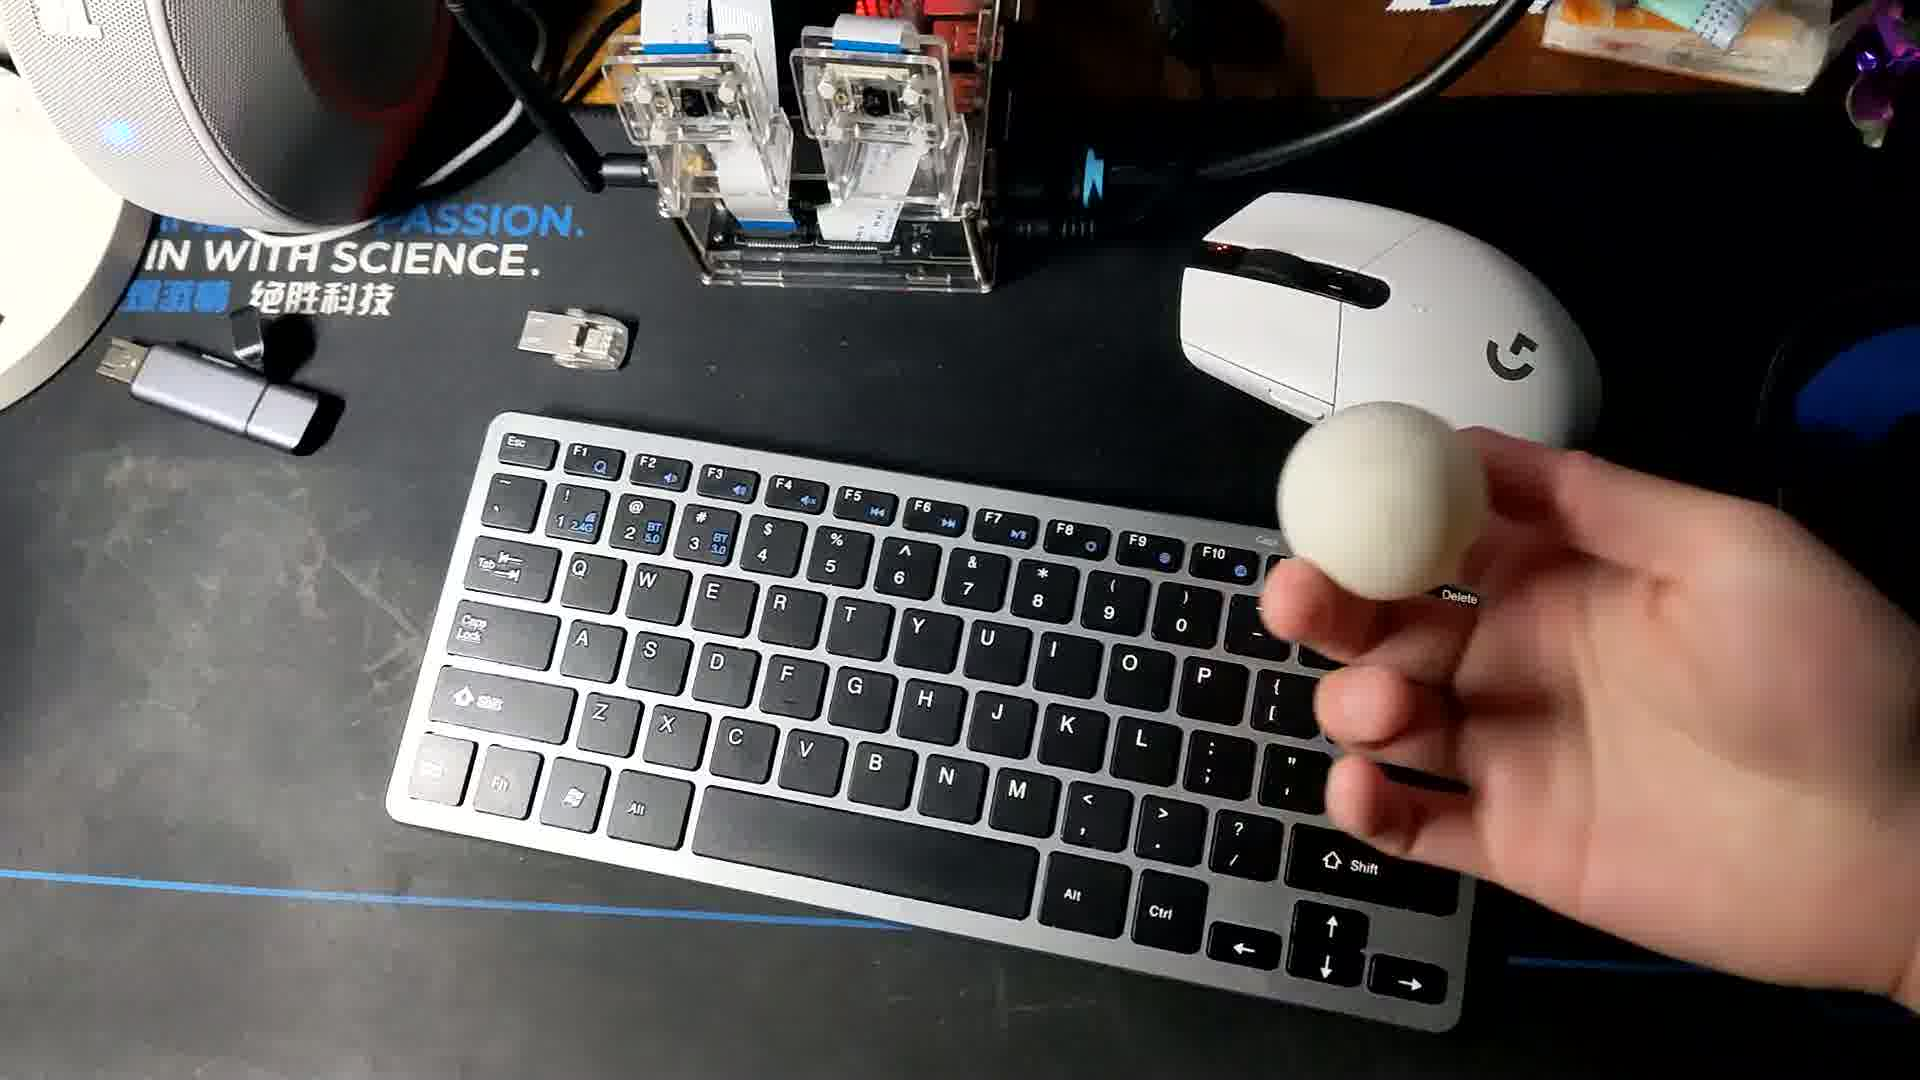Ball: (1273, 405, 1482, 608)
